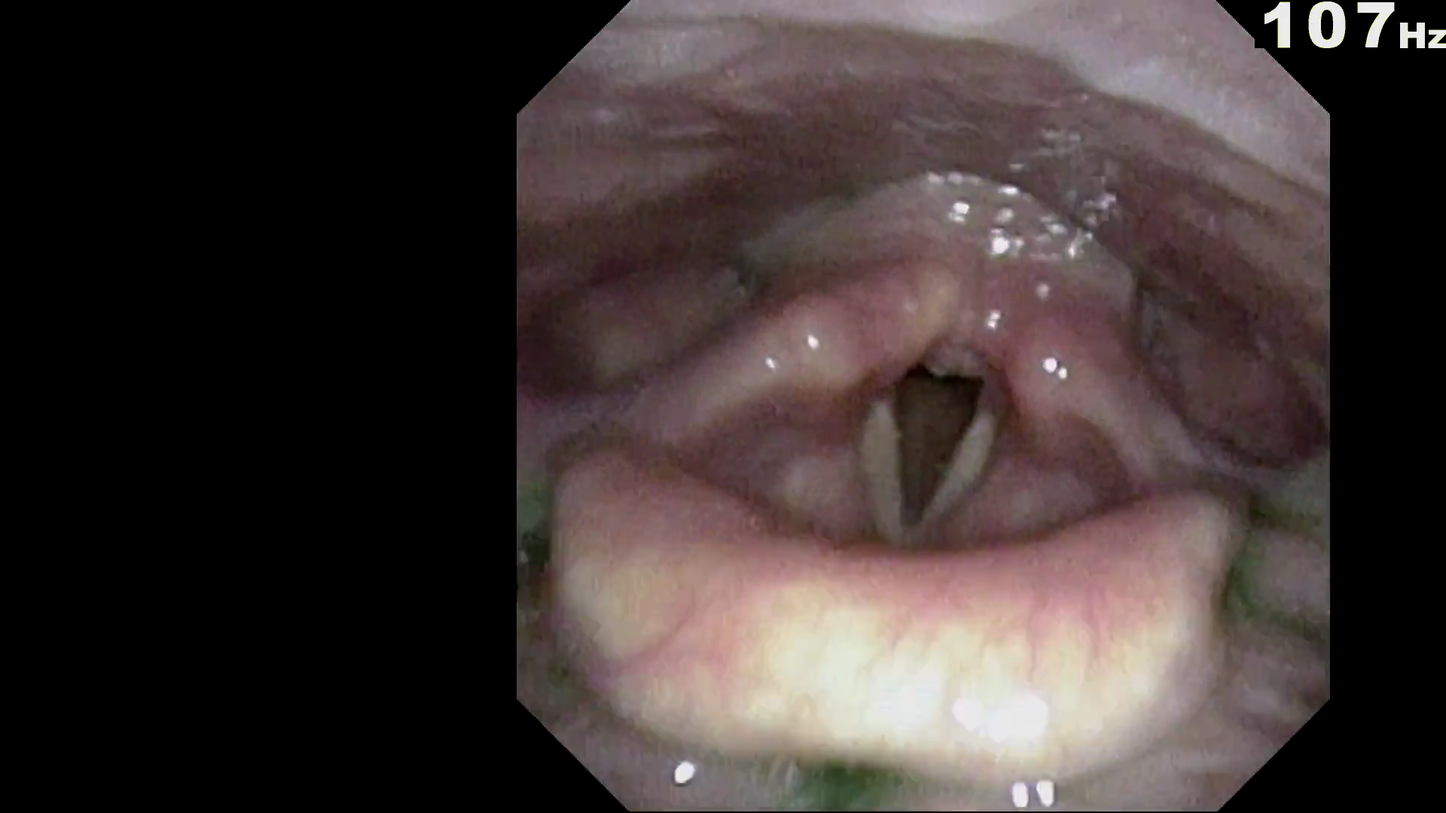epiglottis: (602, 489, 1226, 761)
trachea: (859, 339, 1008, 561)
